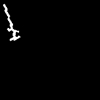double_crochet: (3, 4, 19, 40)
